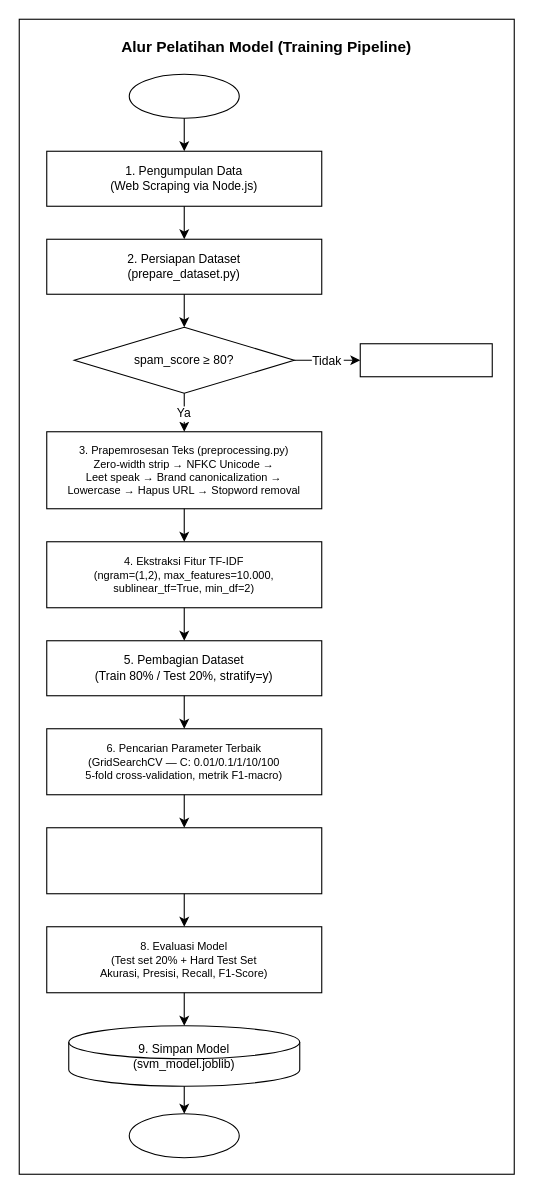
Image size: 534x1194. Some labels were removed from this diagram. The box of each missing label's shape, as (x1, y1, x2, y2) in pixels:
7. Pelatihan Model (Linear SVM, kernel=linear, class_weight=balanced): (46, 827, 322, 894)
Data Ditolak: (359, 343, 492, 377)
Mulai: (128, 73, 239, 118)
Selesai: (128, 1113, 239, 1158)
